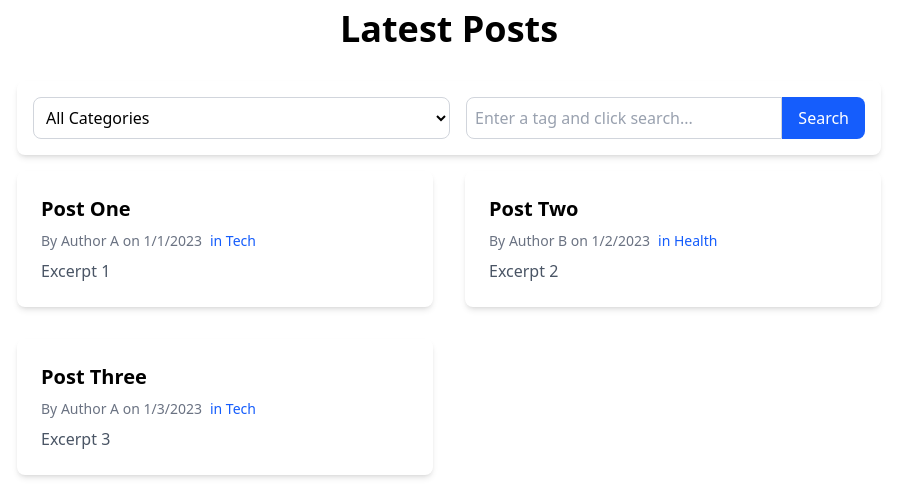
Test: PublicPostList Component › should update category filter when clicking on a category in a post card
Expected: the heading "Post One" is shown, [41,195,131,222]
// Click on the 'Tech' category button in 'Post One'
What coordinates should you click on to do the following:
click the button "in Tech" next to "1/1/2023"
I would click on:
 (233, 241)
Its box is [210,231,256,251].
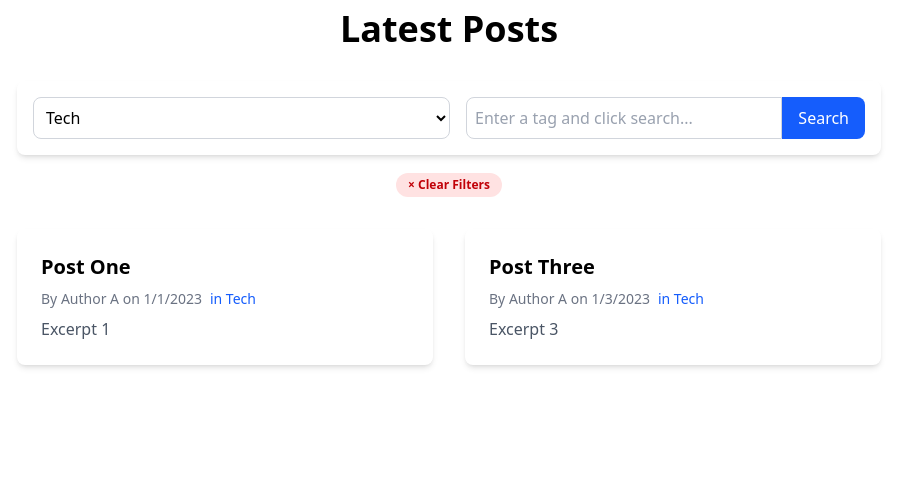
Expected: the heading "Post One" is shown, [41,253,131,280]
Expected: the link "Post Two" is gone
